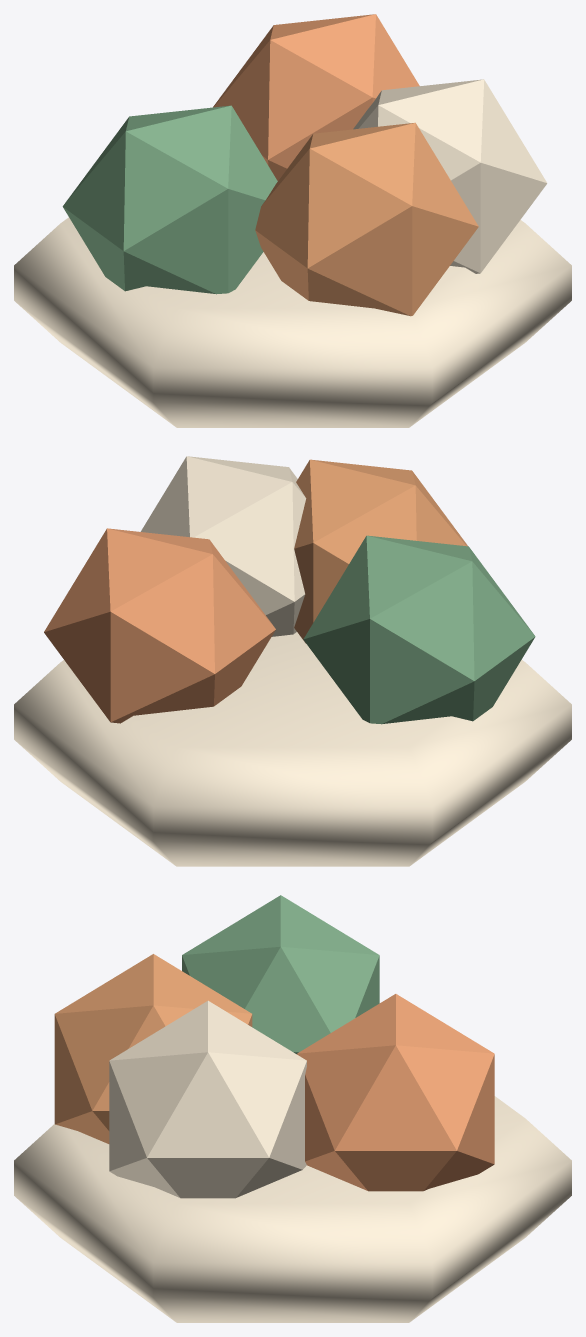
File: fruit-bowl.glb
The picture shows the model from 3 angles, top to bottom: view 1: azimuth 30°, elevation 25°; view 2: azimuth 150°, elevation 25°; view 3: azimuth 270°, elevation 25°; orthographic projection.
Visible parts, largest first — view 1: part (×5); view 2: part (×5); view 3: part (×5).
Part boxes in pixels (box(x1,y1,x2,y2)): part (×5): box(14, 14, 571, 427); part (×5): box(14, 456, 571, 866); part (×5): box(14, 895, 571, 1322).
Bounding box in the file's own units: 0.3118 × 0.1838 × 0.36.
Materials: 1 (1 with a texture image).
